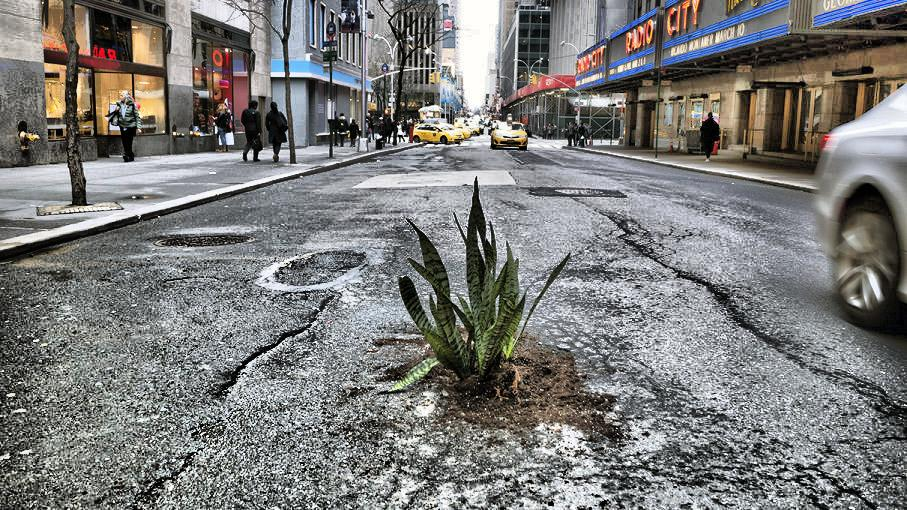pothole: (261, 242, 366, 294)
